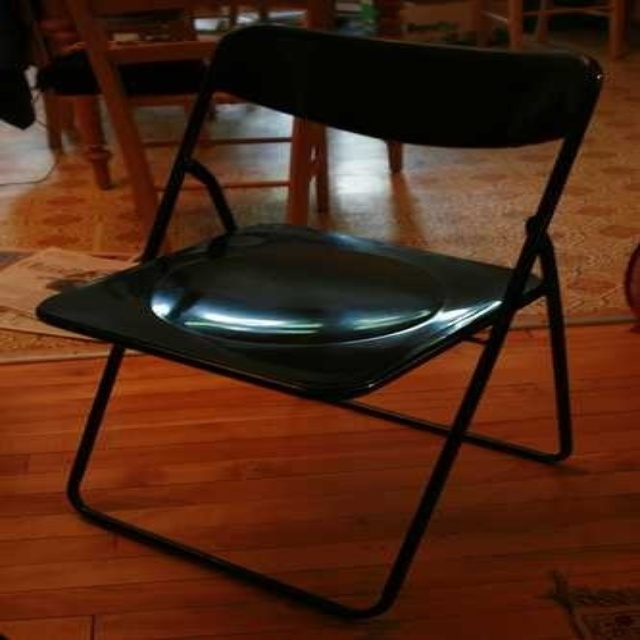obstacle: (37, 26, 600, 616)
